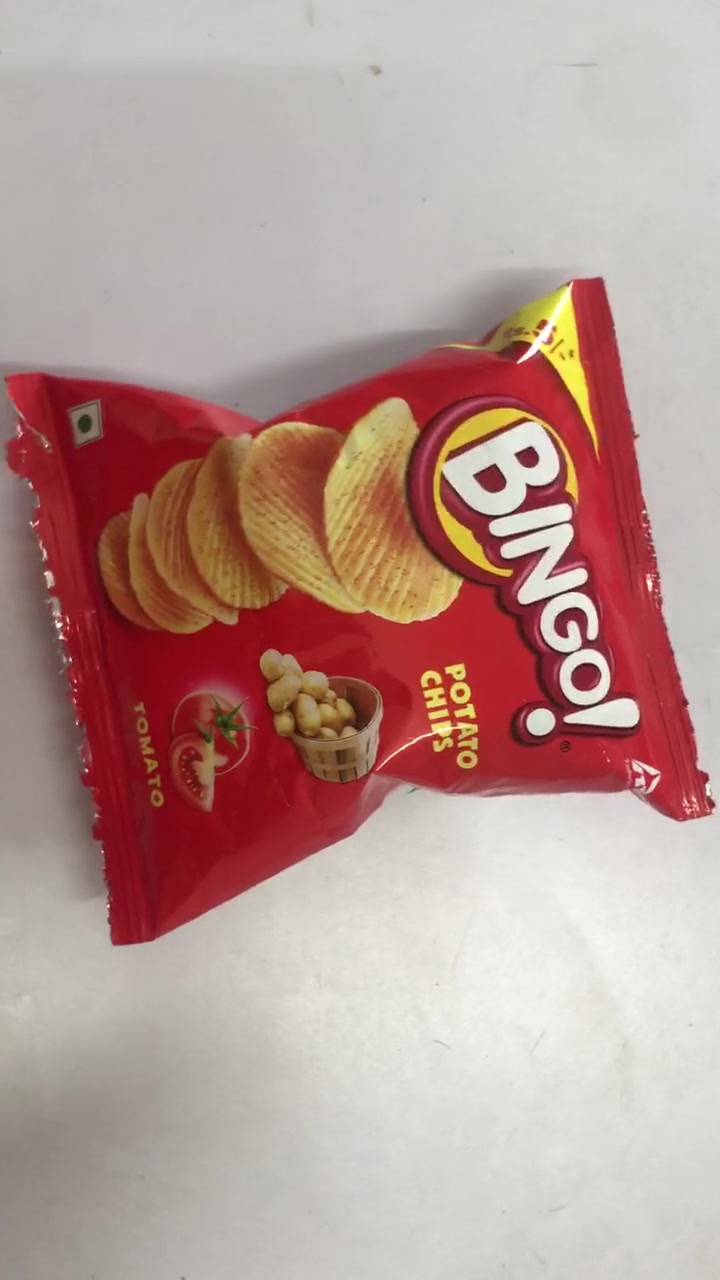Bingo: (14, 282, 706, 942)
